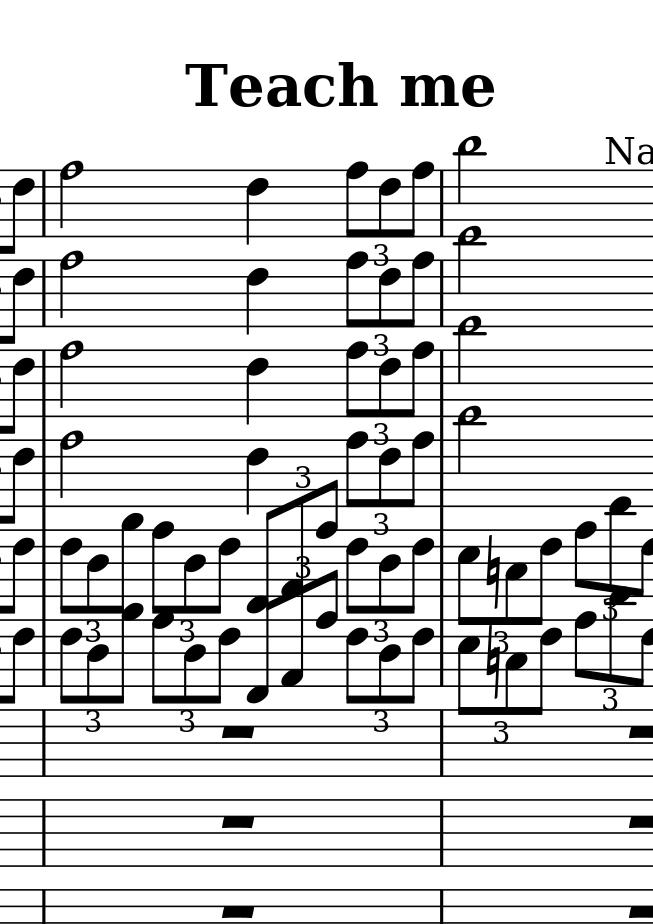2_8: (58, 159, 86, 238), (58, 249, 85, 328), (58, 341, 87, 409), (59, 428, 82, 509)
3: (598, 687, 619, 710), (371, 708, 389, 734), (492, 719, 509, 746)
8_6: (398, 614, 437, 704), (5, 168, 35, 256), (377, 168, 404, 238)
8_8: (404, 159, 437, 243), (402, 250, 436, 331), (570, 520, 600, 603)
Natural: (483, 531, 501, 611), (485, 623, 502, 698)
Rests1: (214, 809, 260, 835), (218, 721, 259, 744), (215, 899, 262, 919), (624, 715, 653, 742), (625, 808, 653, 830), (624, 898, 653, 919)
Single_barline: (434, 799, 450, 866), (434, 712, 450, 779), (37, 708, 52, 778), (434, 169, 449, 234), (38, 798, 51, 868), (38, 169, 51, 238)
